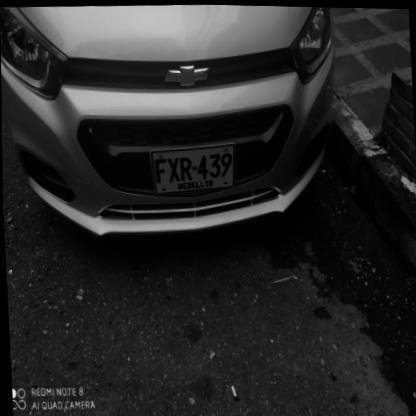placa: (146, 142, 240, 198)
